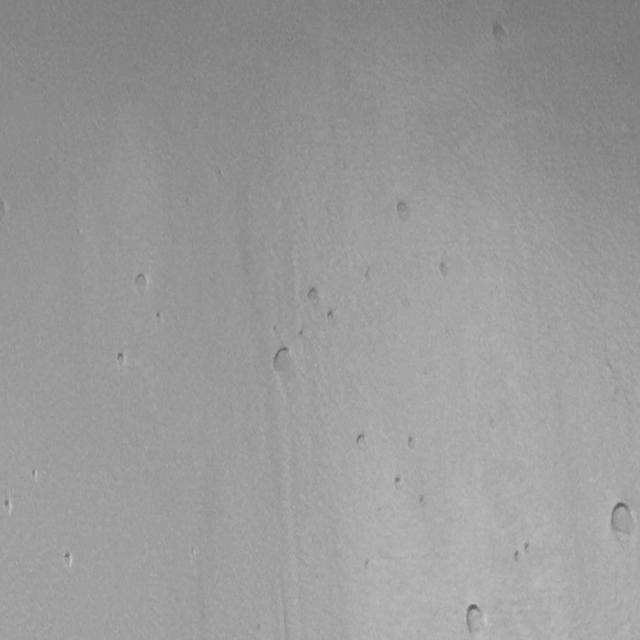pin holes: (604, 498, 640, 551), (462, 600, 490, 636), (272, 345, 296, 375), (392, 198, 414, 224), (487, 19, 508, 46), (132, 271, 153, 298), (435, 257, 456, 281), (209, 164, 230, 188), (305, 283, 324, 307), (514, 540, 534, 562), (61, 550, 77, 570), (354, 432, 370, 451), (392, 474, 408, 493), (0, 198, 11, 225), (405, 434, 420, 453), (115, 351, 129, 370), (2, 498, 15, 518), (520, 540, 534, 558), (325, 308, 340, 324), (510, 549, 524, 565), (363, 265, 374, 285), (28, 468, 41, 484), (154, 309, 166, 325), (416, 494, 428, 510), (297, 327, 309, 342), (364, 557, 371, 575)
